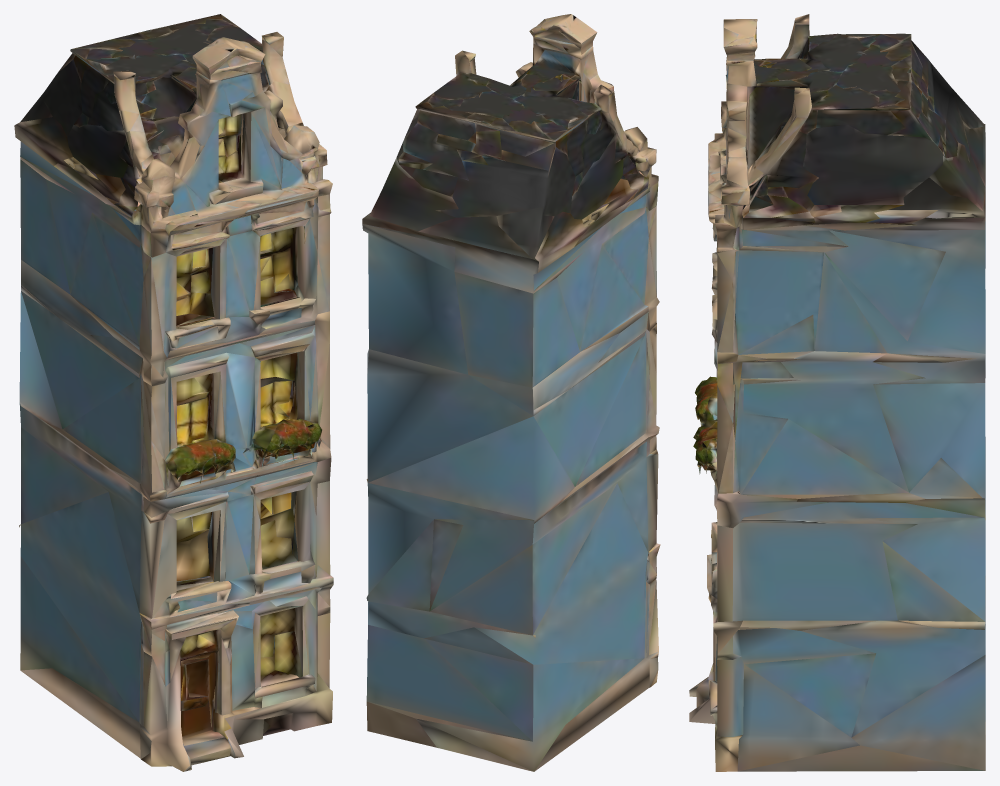
The model's file is getkong-haus10.glb.
3 views of the same model, side by side, from view 1: azimuth 30°, elevation 25°; view 2: azimuth 150°, elevation 25°; view 3: azimuth 270°, elevation 25° (orthographic). The views are drawn at different scales.
Parts seen in each view (by area): view 1: output_unwrapped; view 2: output_unwrapped; view 3: output_unwrapped.
Part boxes in pixels (<box>): output_unwrapped: <box>14,14,333,771</box>; output_unwrapped: <box>362,14,660,771</box>; output_unwrapped: <box>689,14,985,771</box>.
Size of the model in its own units: 0.5446 by 1.9 by 0.7228.
Materials: 1 (1 with a texture image).
